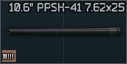PPSh-41 7.62x25 10.6 inch barrel: (0, 0, 127, 64)
